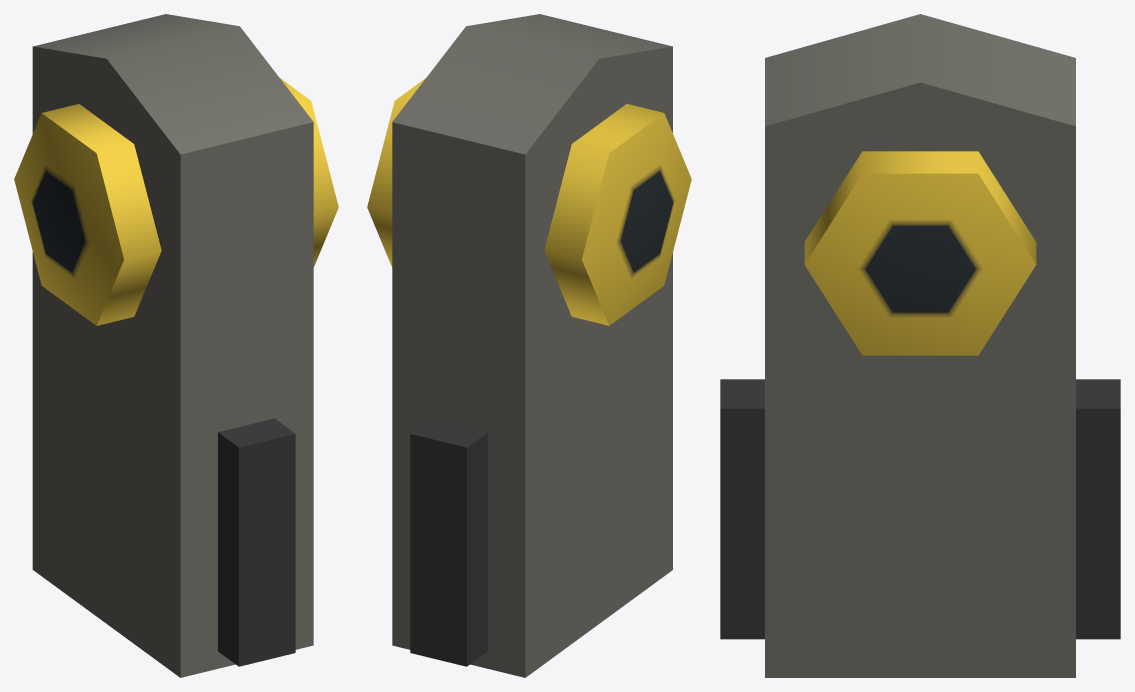
File: pipeset1_stand2.fbx
The picture shows the model from 3 angles, left to right: view 1: azimuth 30°, elevation 25°; view 2: azimuth 150°, elevation 25°; view 3: azimuth 270°, elevation 25°; orthographic projection. The views are drawn at different scales.
Visible parts, largest first — view 1: pipeset1_stand2; view 2: pipeset1_stand2; view 3: pipeset1_stand2.
Boxes of the visible parts, <box> form: pipeset1_stand2: <box>14,14,338,677</box>; pipeset1_stand2: <box>367,14,691,677</box>; pipeset1_stand2: <box>720,14,1120,677</box>.
Size of the model in its own units: 84.73 by 180 by 110.
